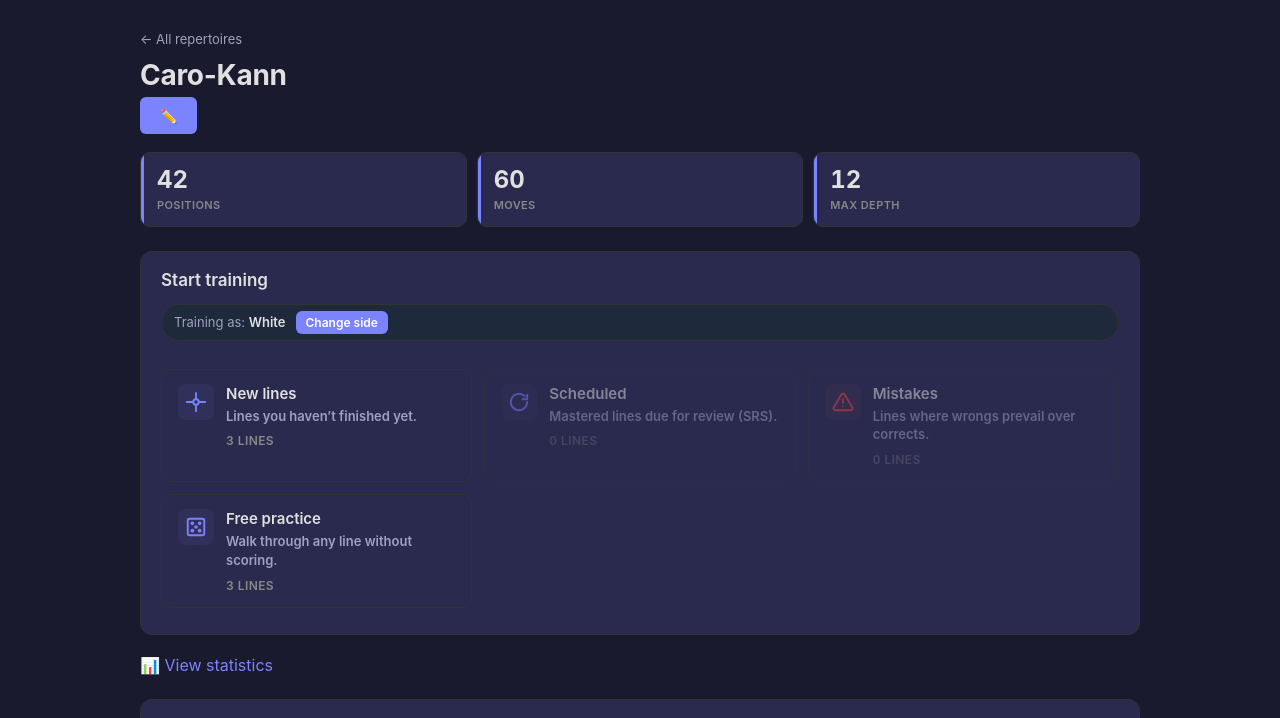
Test: OpeningTrainerDetailPage › KS-3482: Esc отменяет редактирование без PATCH
Expected: the heading "Caro-Kann" is shown, top-left (140, 58), bottom-right (287, 92)
Click the button with test id "opening-trainer-detail-title-edit": (169, 116) top-left (140, 97), bottom-right (198, 134)
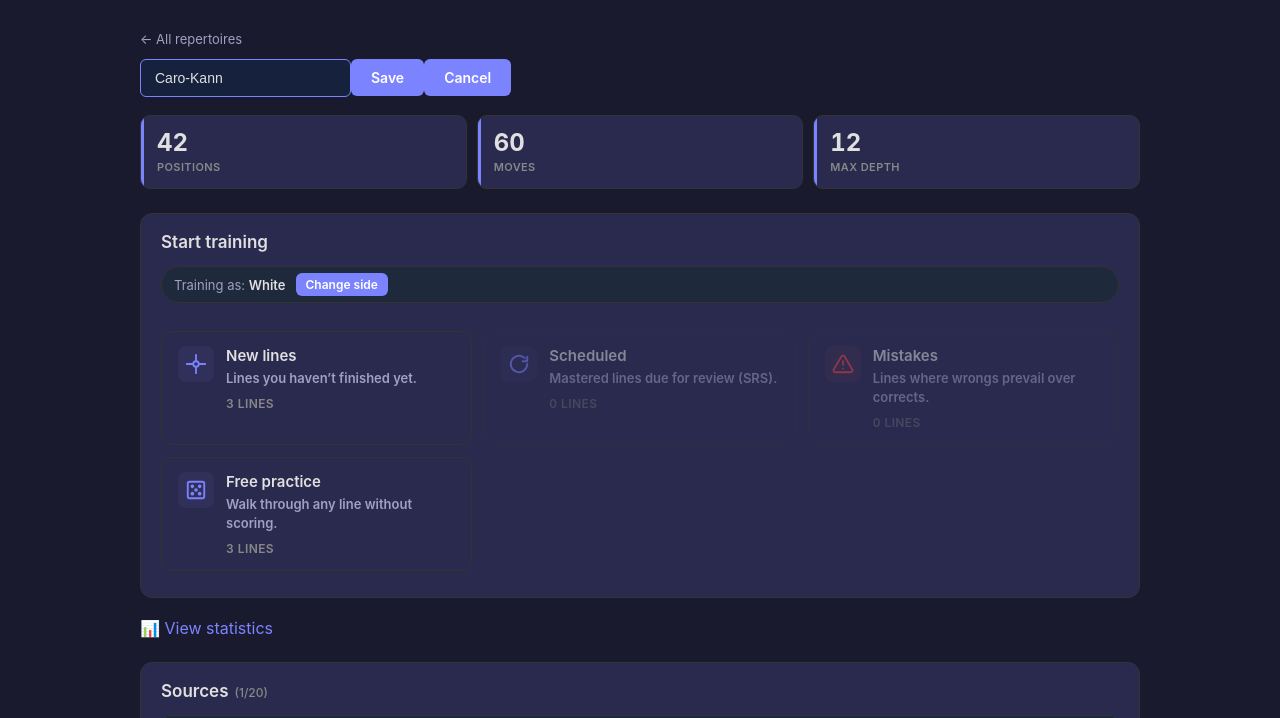
Replace the text in the field with test id "opening-trainer-detail-title-input" with "Aborted": (246, 78) top-left (140, 59), bottom-right (351, 97)
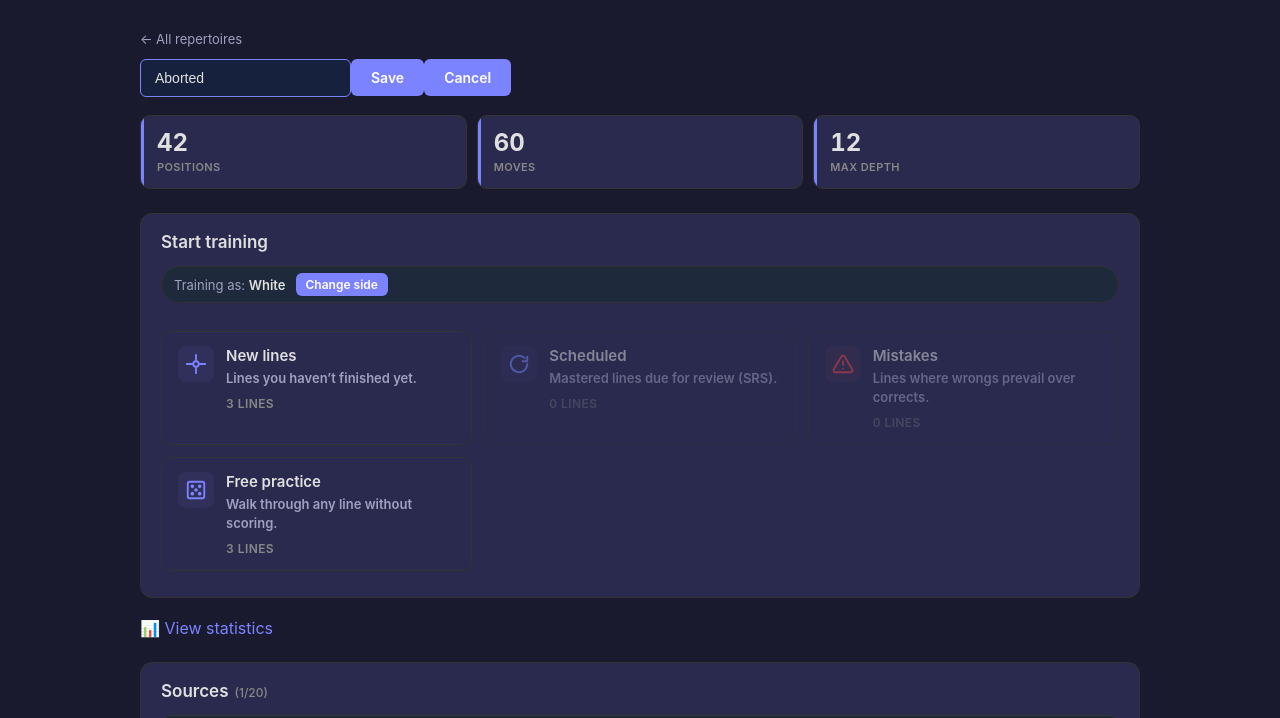
Press Escape
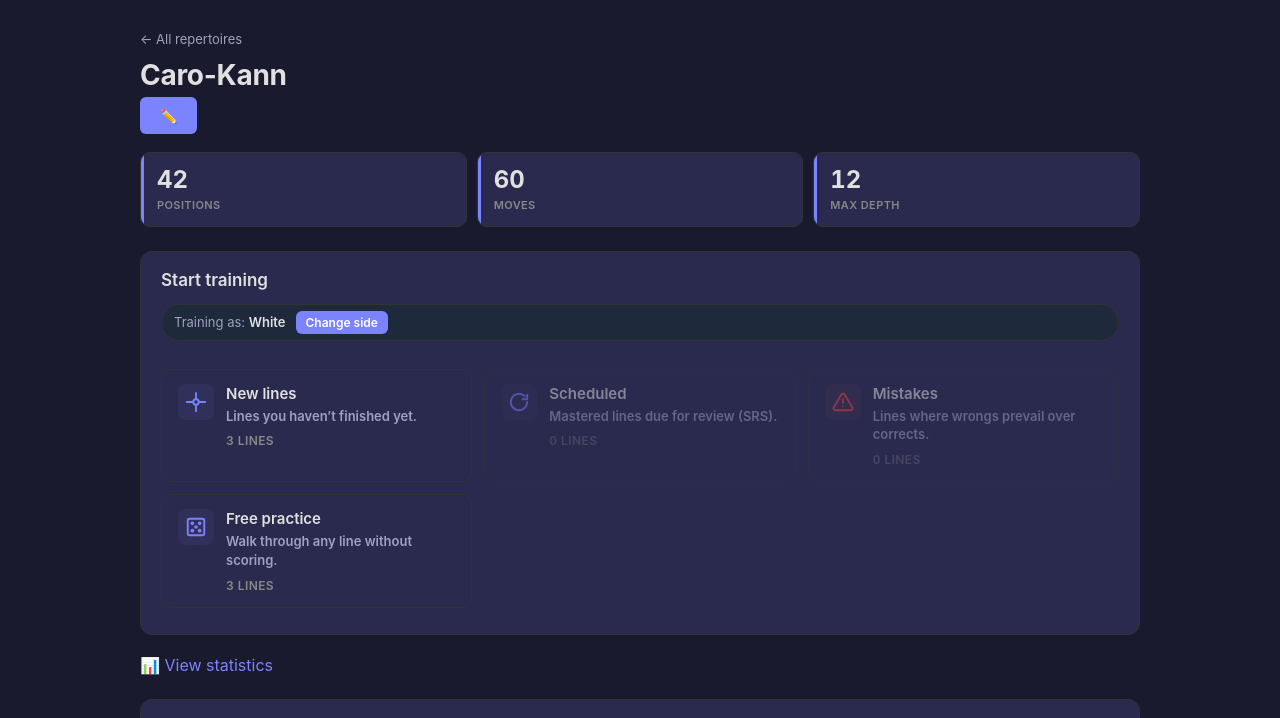
Result: the field with test id "opening-trainer-detail-title-input" is gone
Result: the heading with test id "opening-trainer-detail-title" reads "Caro-Kann" at top-left (140, 58), bottom-right (287, 92)
